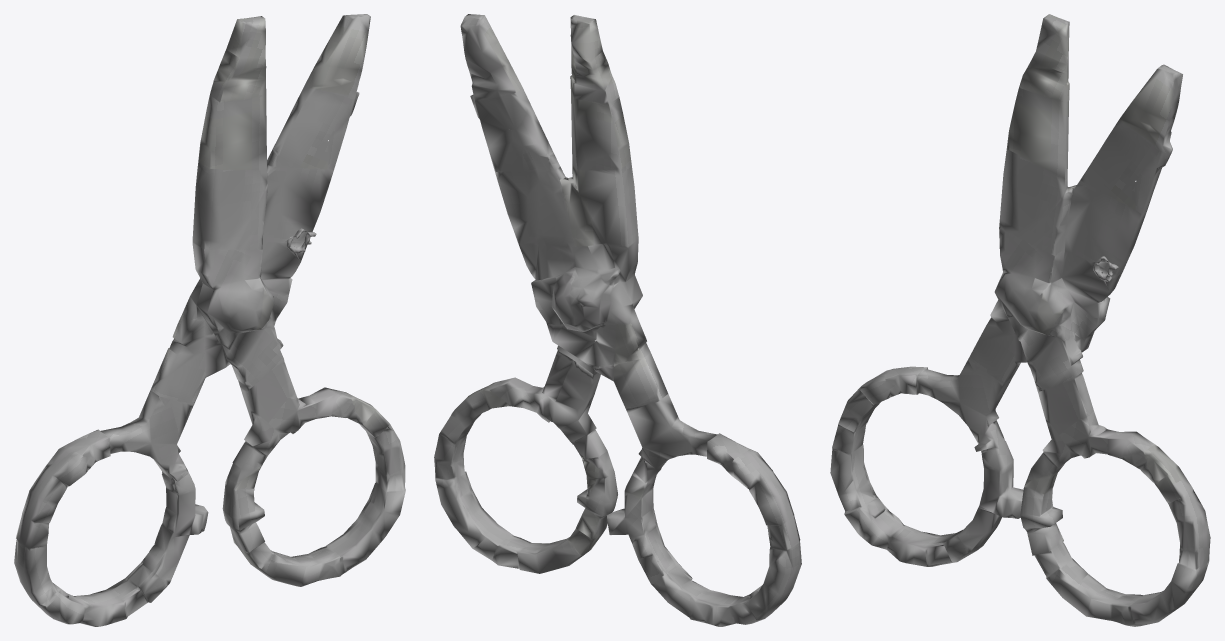
File: s_scissors.glb
3 renders of one model, left to right at view 1: azimuth 30°, elevation 25°; view 2: azimuth 150°, elevation 25°; view 3: azimuth 330°, elevation 25°, orthographic. The views are drawn at different scales.
Visible parts, largest first — view 1: tripo_node_d7a75879-82b7-4d05-83d5-07be82225095; view 2: tripo_node_d7a75879-82b7-4d05-83d5-07be82225095; view 3: tripo_node_d7a75879-82b7-4d05-83d5-07be82225095.
Part boxes in pixels (x1,y1,x2,y2): tripo_node_d7a75879-82b7-4d05-83d5-07be82225095: (14,14,405,626); tripo_node_d7a75879-82b7-4d05-83d5-07be82225095: (434,14,801,626); tripo_node_d7a75879-82b7-4d05-83d5-07be82225095: (830,14,1210,626).
Bounding box in the file's own units: 0.6792 × 0.9996 × 0.1206.
1 material, 1 textured.
